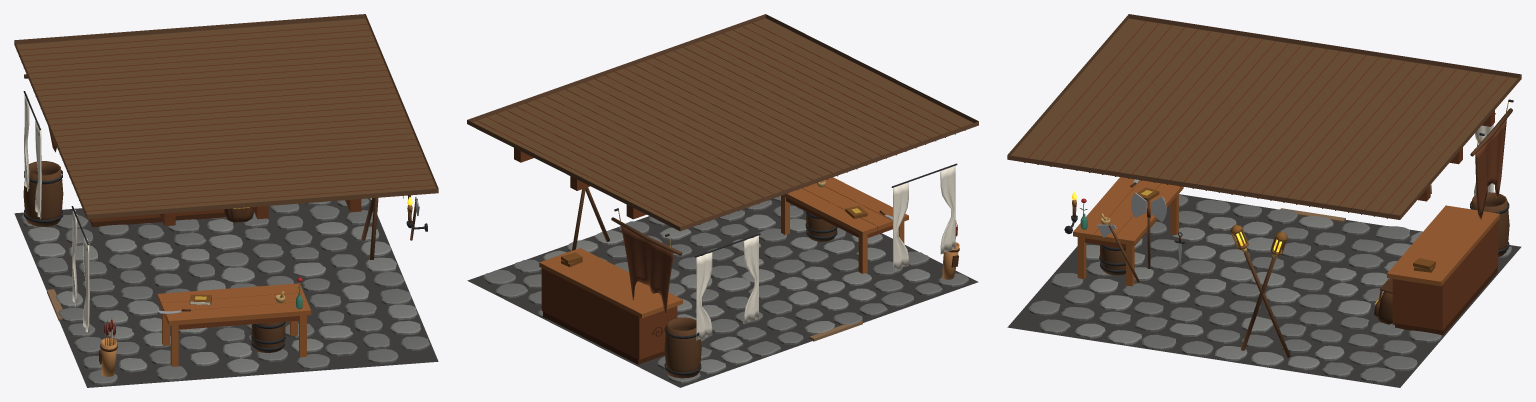
The model's file is ImeriInterior.glb.
The picture shows the model from 3 angles, left to right: view 1: azimuth 30°, elevation 25°; view 2: azimuth 150°, elevation 25°; view 3: azimuth 270°, elevation 25°; orthographic projection. The views are drawn at different scales.
Parts seen in each view (by area): view 1: ImeriCielo, ImeriRocasPiso, ImeriPiso, ImeriMesa, ImeriBarriles, ImeriCortinas, ImeriBaul, ImeriCarcaj, ImeriAntorchas, ImeriMesaObjetos, ImeriMochila; view 2: ImeriCielo, ImeriRocasPiso, ImeriPiso, ImeriBaul, ImeriCortinas, ImeriMesa, ImeriPiel, ImeriBarriles, ImeriAntorchas, ImeriCarcaj; view 3: ImeriCielo, ImeriRocasPiso, ImeriPiso, ImeriBaul, ImeriMesa, ImeriPiel, ImeriBarriles, ImeriAntorchas, ImeriArmas, ImeriMochila.
Part boxes in pixels (left/top/right/bottom): ImeriCielo: left=14, top=14, right=438, bottom=225; ImeriRocasPiso: left=21, top=198, right=429, bottom=385; ImeriPiso: left=14, top=198, right=438, bottom=387; ImeriMesa: left=157, top=283, right=311, bottom=366; ImeriBarriles: left=23, top=161, right=285, bottom=352; ImeriCortinas: left=23, top=91, right=89, bottom=334; ImeriBaul: left=89, top=209, right=225, bottom=227; ImeriCarcaj: left=99, top=318, right=117, bottom=376; ImeriAntorchas: left=361, top=197, right=378, bottom=259; ImeriMesaObjetos: left=189, top=277, right=302, bottom=309; ImeriMochila: left=224, top=207, right=253, bottom=222; ImeriCielo: left=467, top=14, right=978, bottom=231; ImeriRocasPiso: left=483, top=196, right=968, bottom=383; ImeriPiso: left=467, top=199, right=978, bottom=387; ImeriBaul: left=539, top=248, right=682, bottom=364; ImeriCortinas: left=695, top=163, right=957, bottom=340; ImeriMesa: left=781, top=177, right=908, bottom=273; ImeriPiel: left=611, top=208, right=682, bottom=314; ImeriBarriles: left=664, top=211, right=837, bottom=378; ImeriAntorchas: left=572, top=187, right=609, bottom=250; ImeriCarcaj: left=942, top=220, right=959, bottom=279; ImeriCielo: left=1007, top=14, right=1521, bottom=219; ImeriRocasPiso: left=1028, top=195, right=1511, bottom=383; ImeriPiso: left=1007, top=194, right=1521, bottom=387; ImeriBaul: left=1387, top=205, right=1499, bottom=335; ImeriMesa: left=1073, top=177, right=1183, bottom=286; ImeriPiel: left=1470, top=99, right=1513, bottom=219; ImeriBarriles: left=1099, top=192, right=1509, bottom=275; ImeriAntorchas: left=1230, top=224, right=1290, bottom=357; ImeriArmas: left=1097, top=179, right=1185, bottom=282; ImeriMochila: left=1374, top=279, right=1394, bottom=324.
Bounding box in the file's own units: 7.62 × 3.06 × 8.22.
